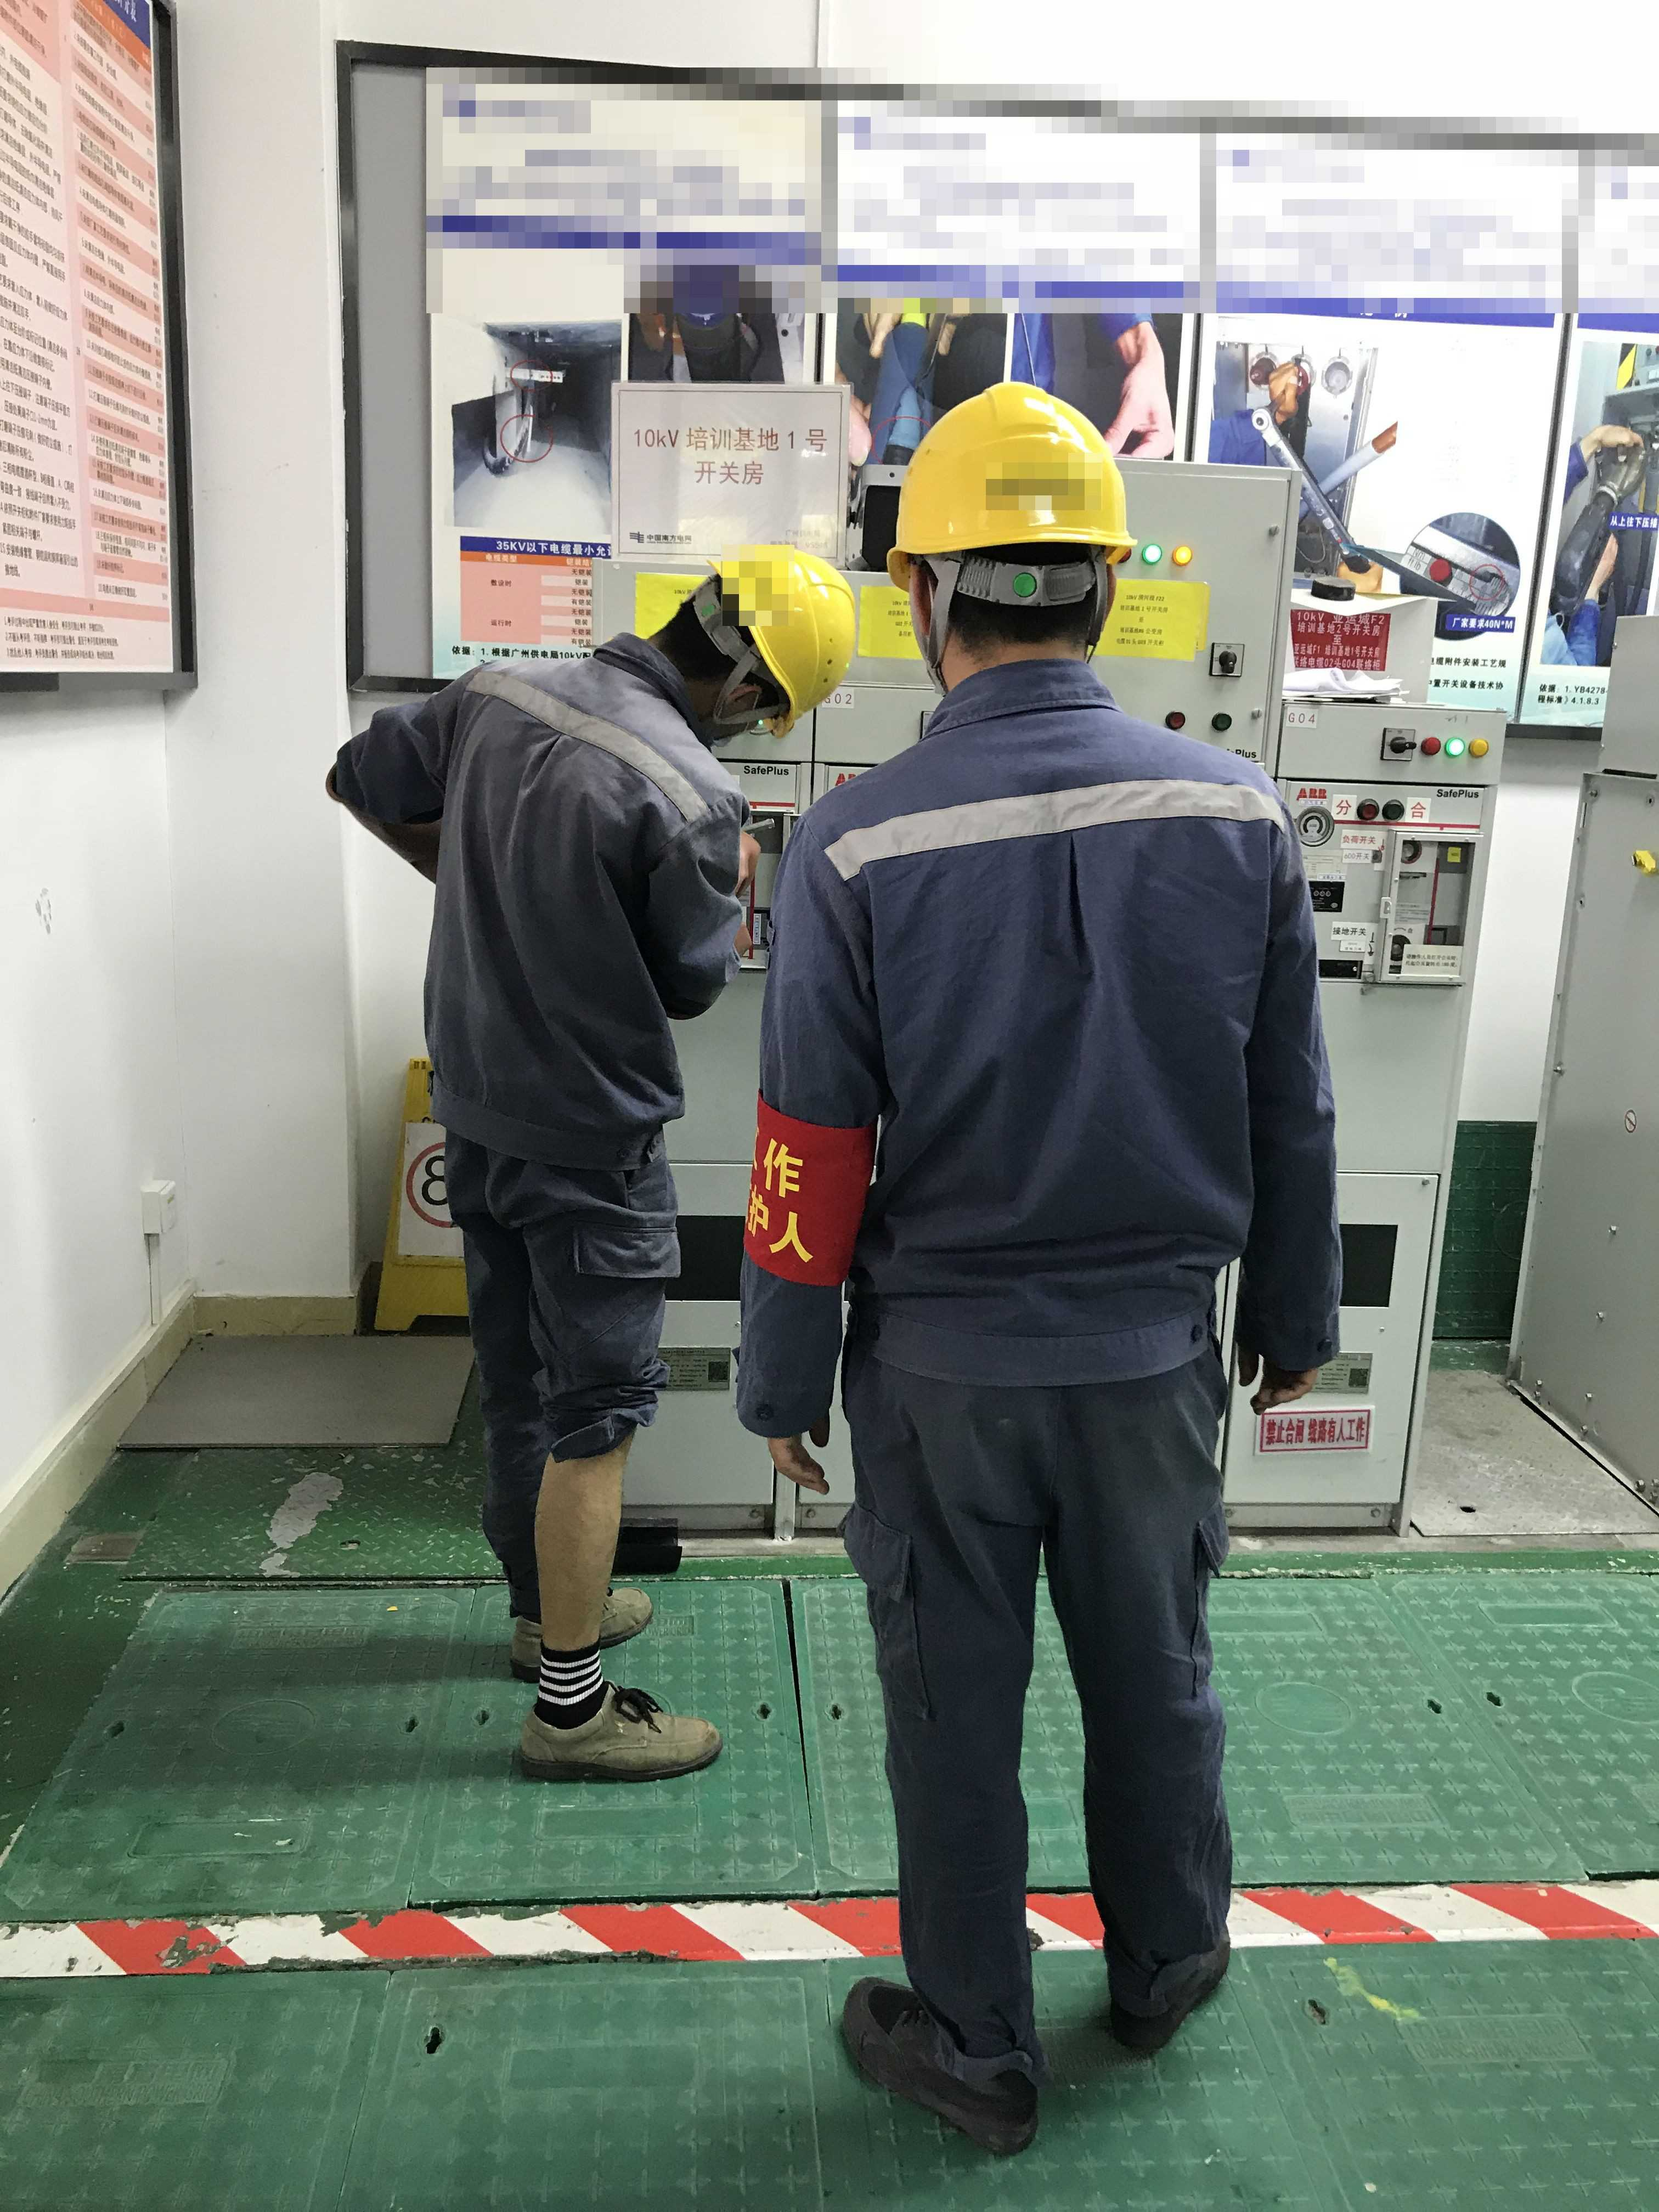downsuit: (838, 1369, 1239, 2041), (448, 1176, 680, 1642)
upsuit: (746, 657, 1317, 1392), (317, 648, 744, 1169)
wrongbottom: (504, 1413, 652, 1693)
